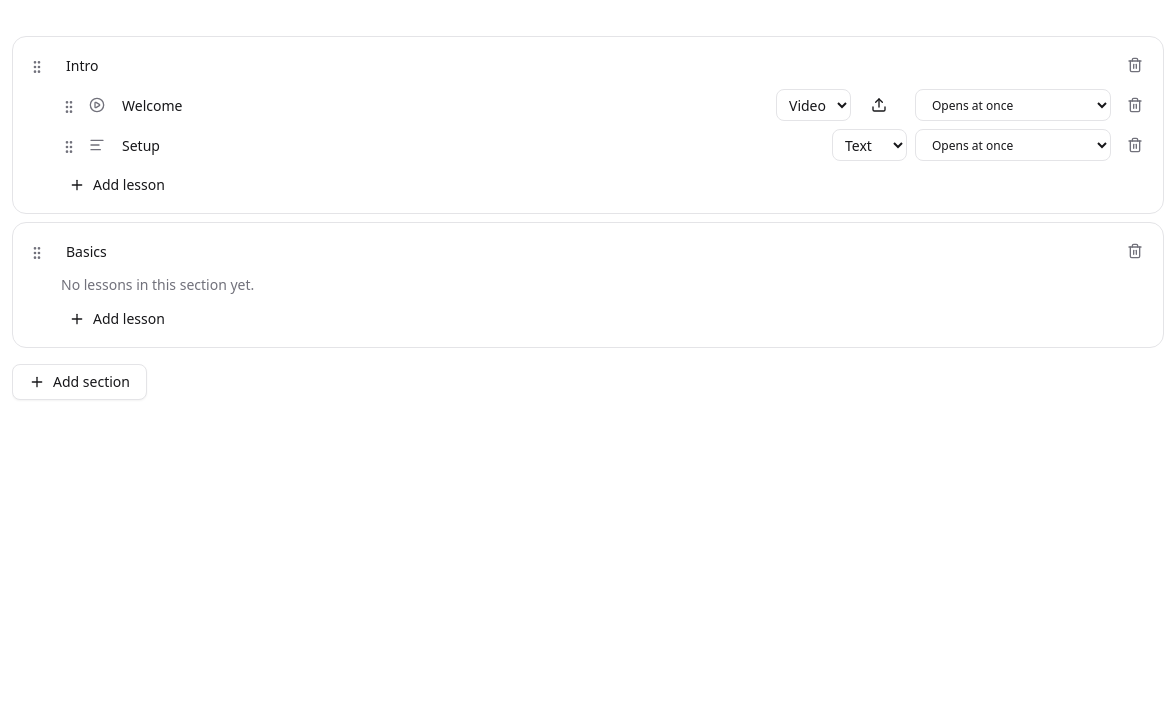
Test: CourseBuilder › adds an untitled section at the end and an untitled lesson to a section
Click the button "Add section" at [79, 382], box left=12, top=364, right=147, bottom=400
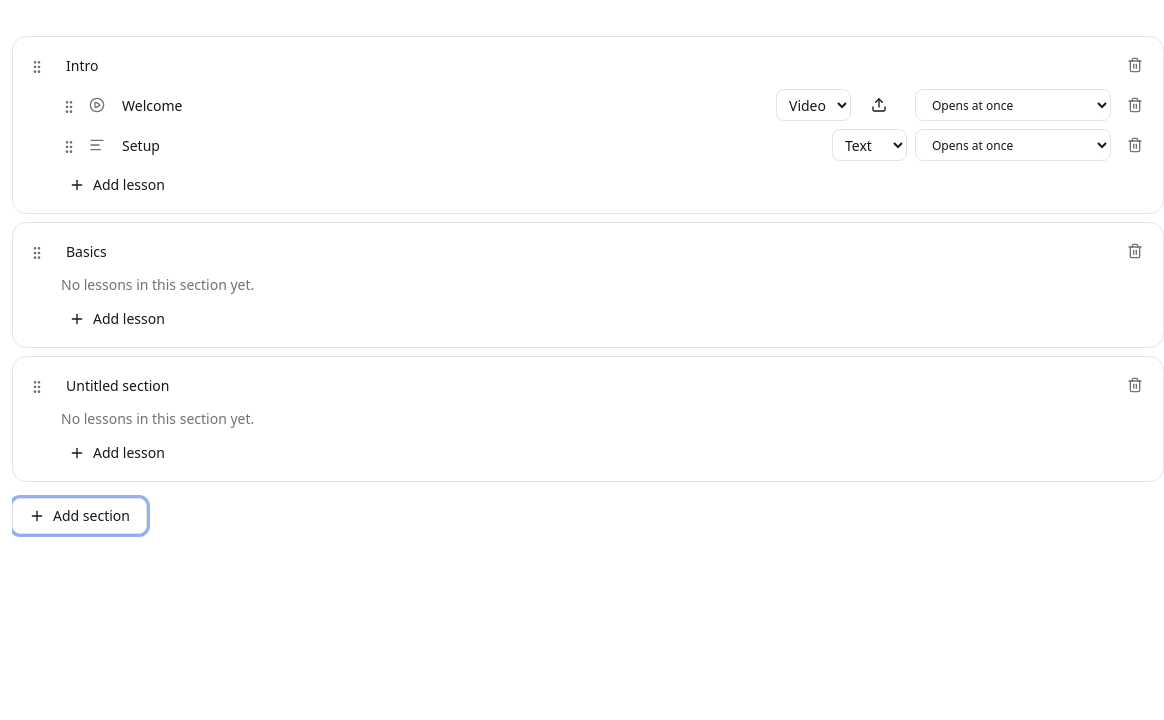
Click the 2nd button "Add lesson" at [117, 319], box left=57, top=303, right=177, bottom=335
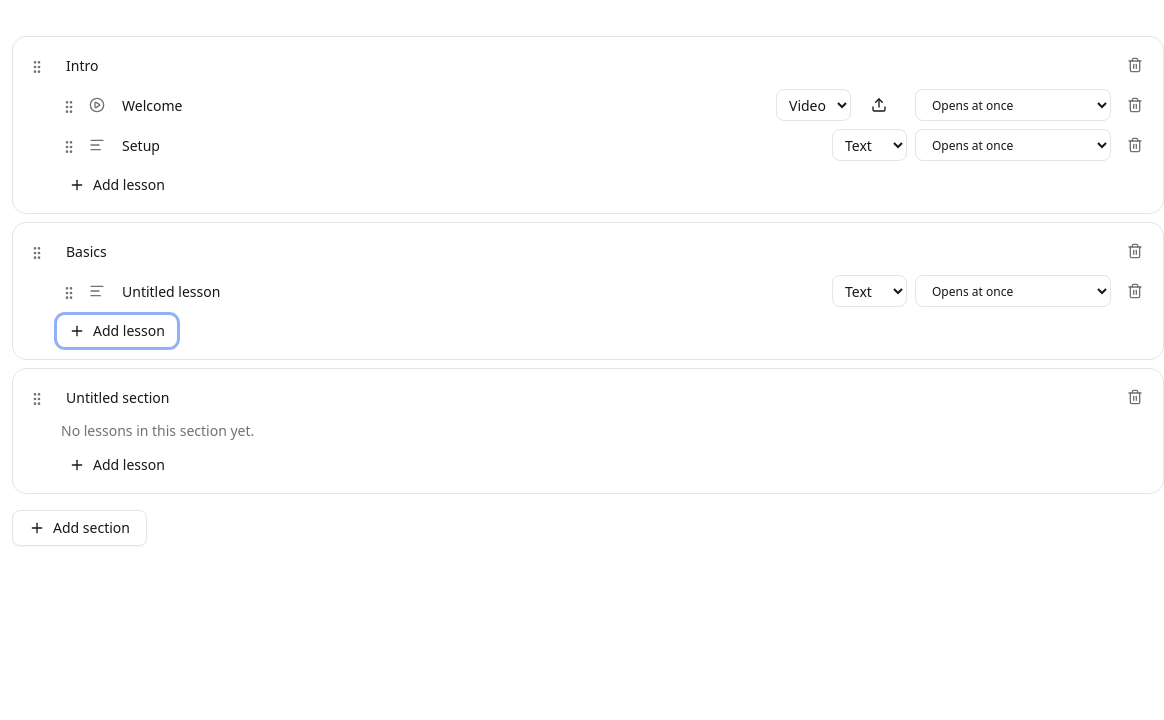
Expected: the 3rd field named "Lesson title" holds "Untitled lesson", left=113, top=275, right=824, bottom=307
